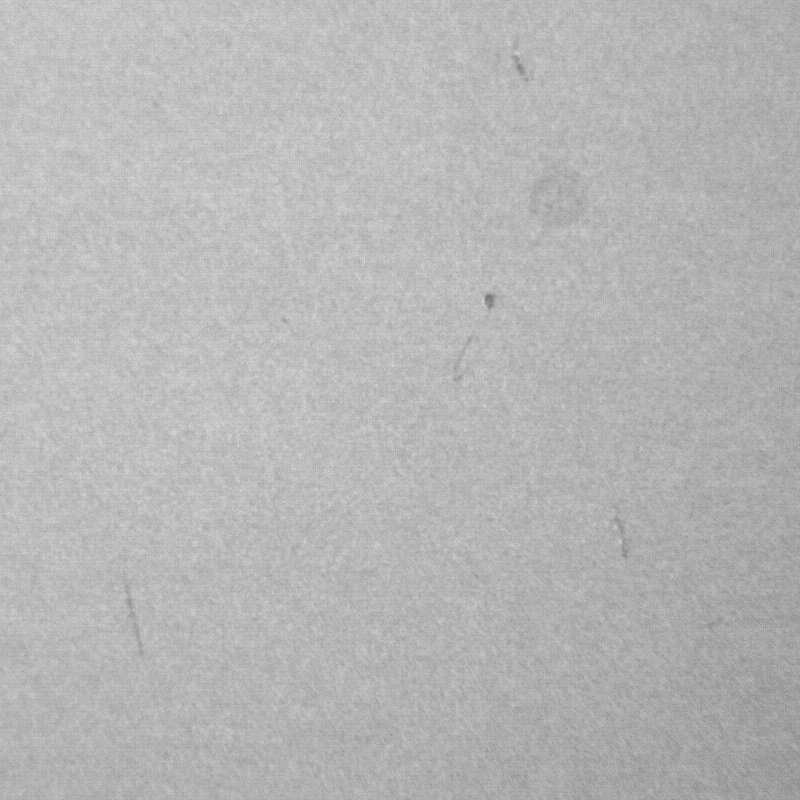defect: (121, 585, 152, 661), (449, 340, 488, 388), (507, 53, 535, 85), (608, 509, 626, 558), (479, 294, 498, 314)
